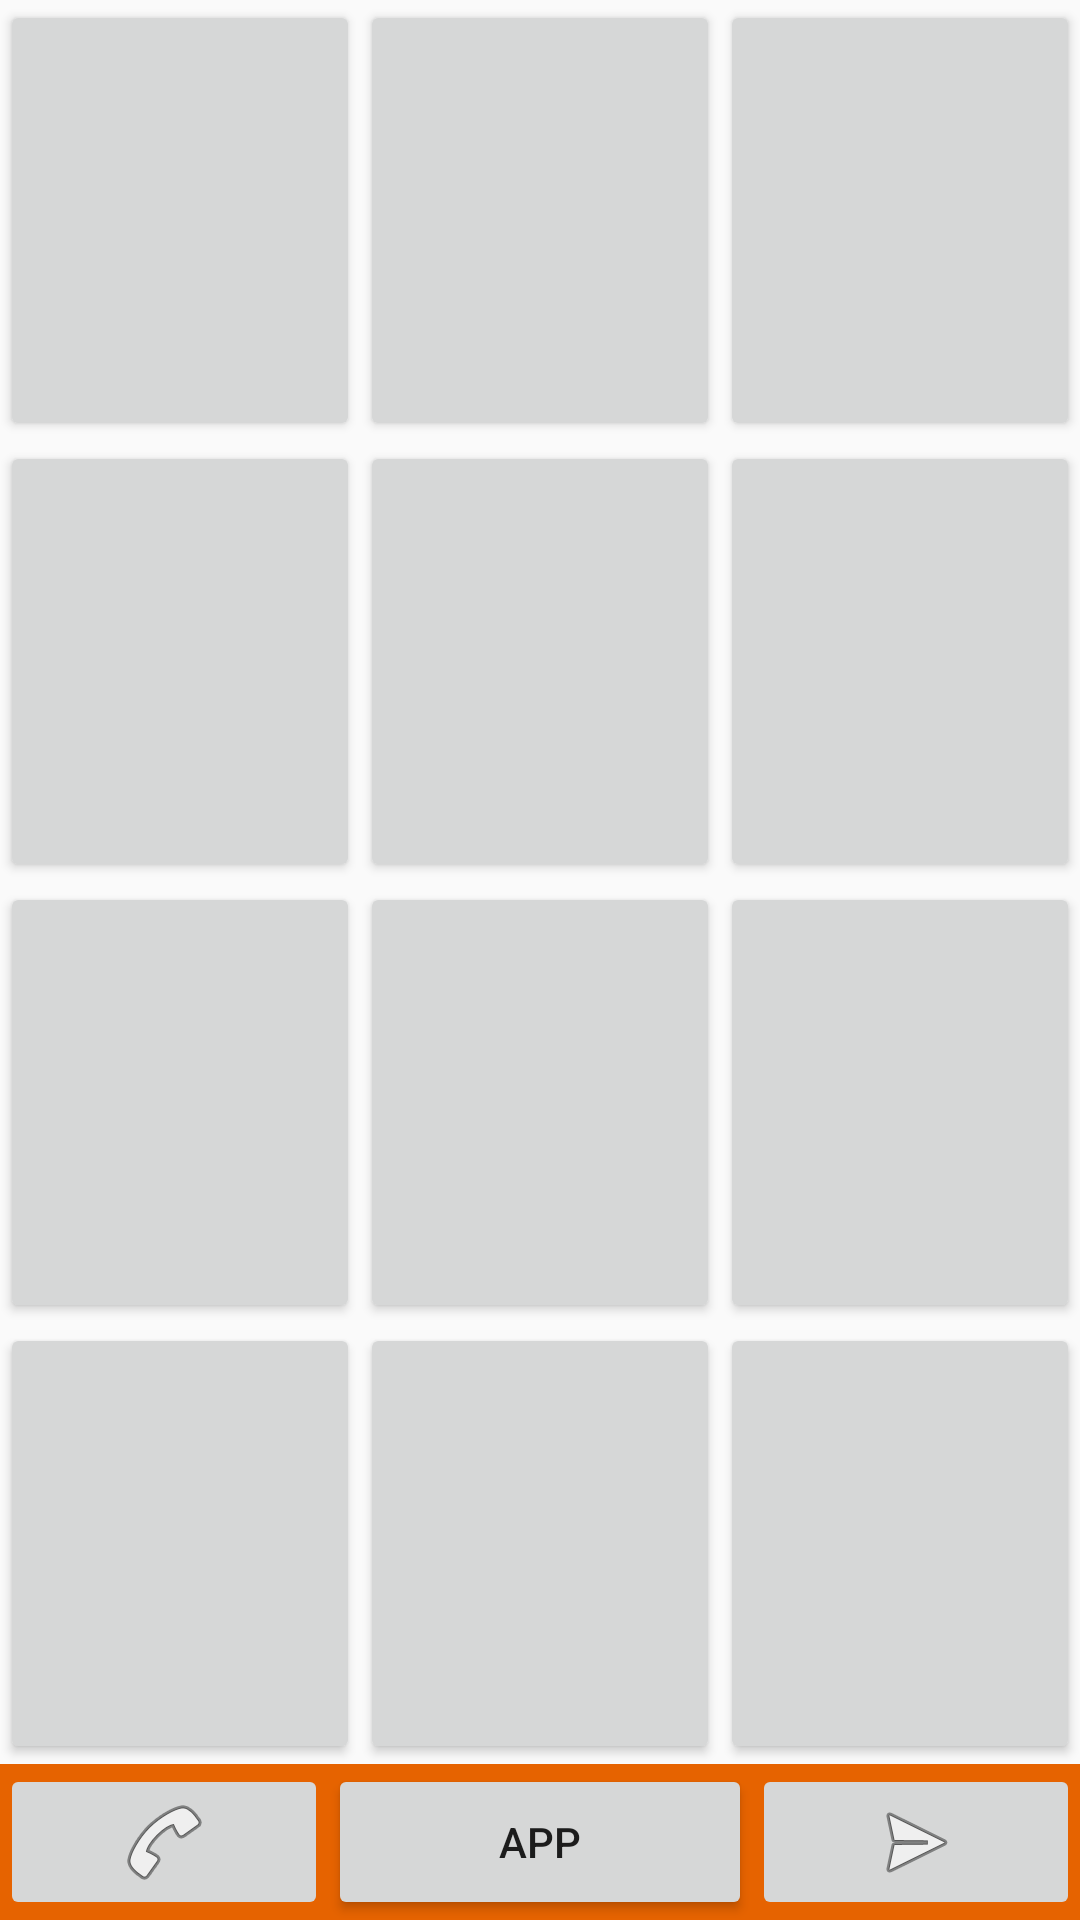

Icons on this 1080 × 1920 Android screen, each with the point to tap as (x=x, y=y):
call: (x=164, y=1842)
send: (x=916, y=1842)
